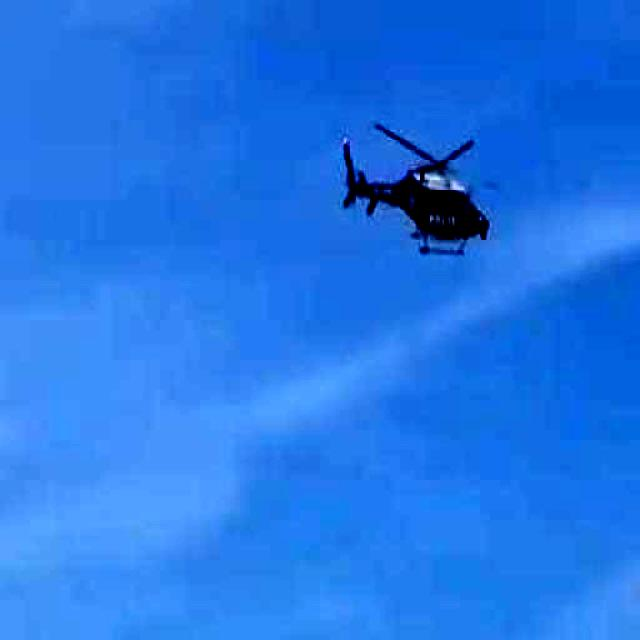drone: (321, 80, 511, 322)
